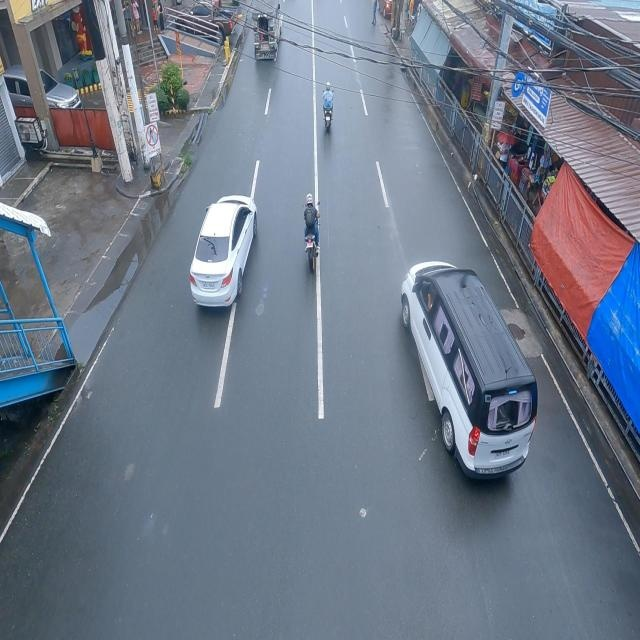Van: (402, 260, 538, 487)
